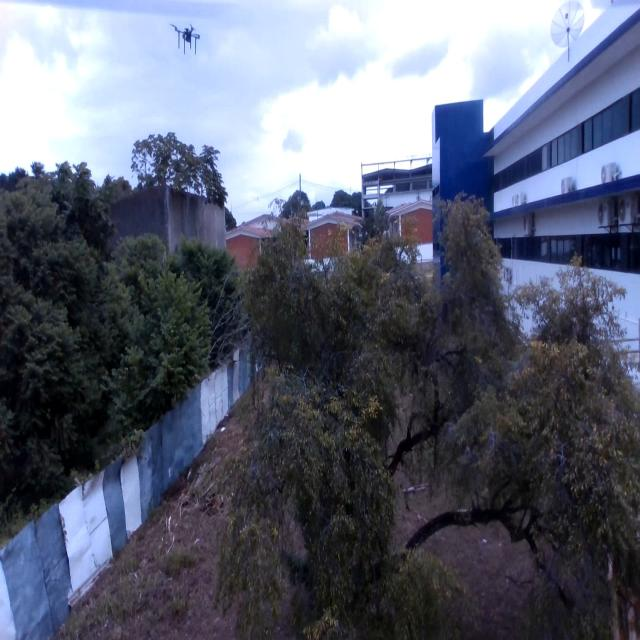-uav-: (163, 12, 207, 58)
